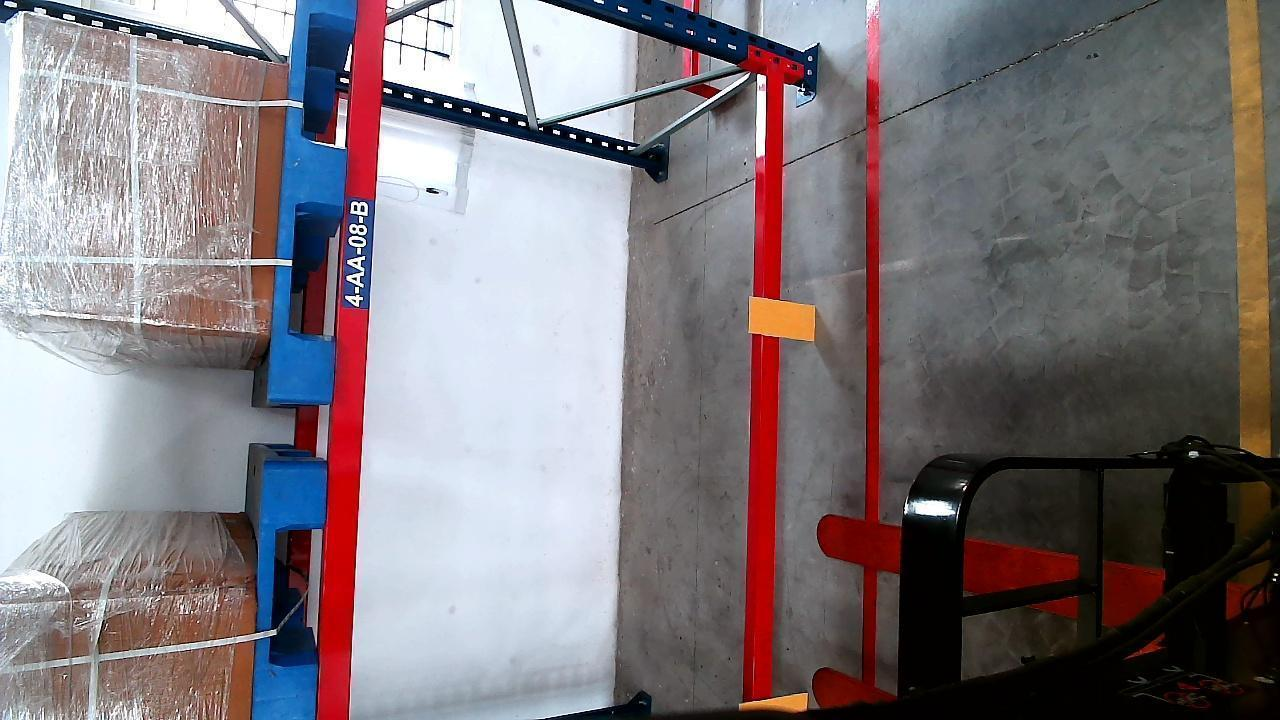red_line: (860, 4, 885, 509)
yellow_line: (1227, 0, 1274, 461)
